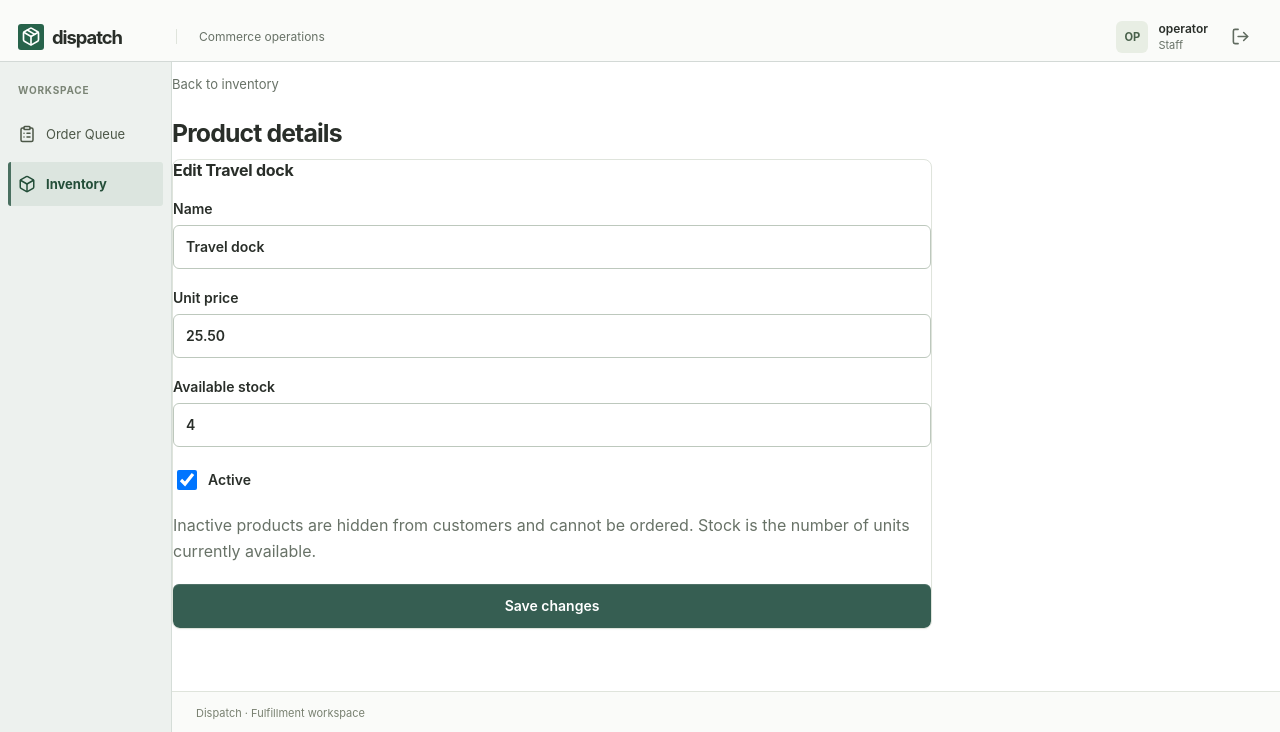
lets staff edit availability without overwriting unedited stock
Click the checkbox labelled "Active": coordinates (187, 480) x1=177 y1=470 x2=197 y2=490
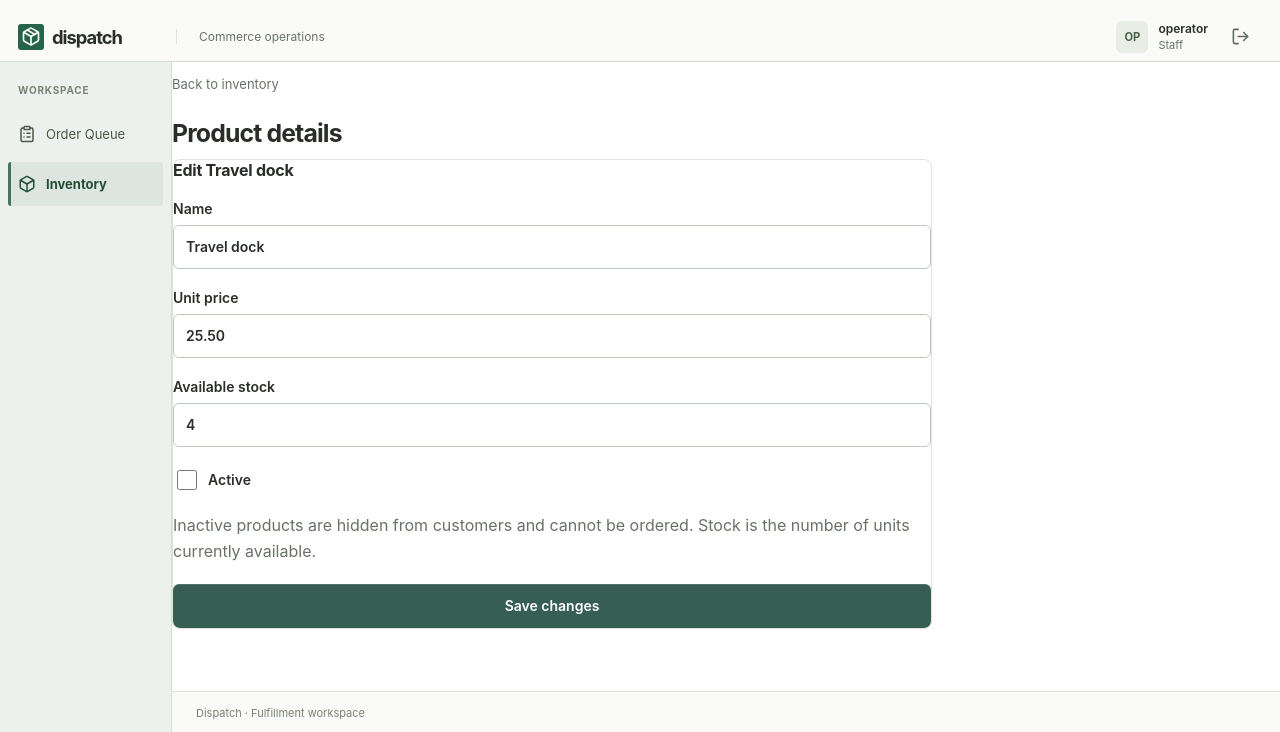
Click the button "Save changes": coordinates (552, 606) x1=173 y1=584 x2=931 y2=628
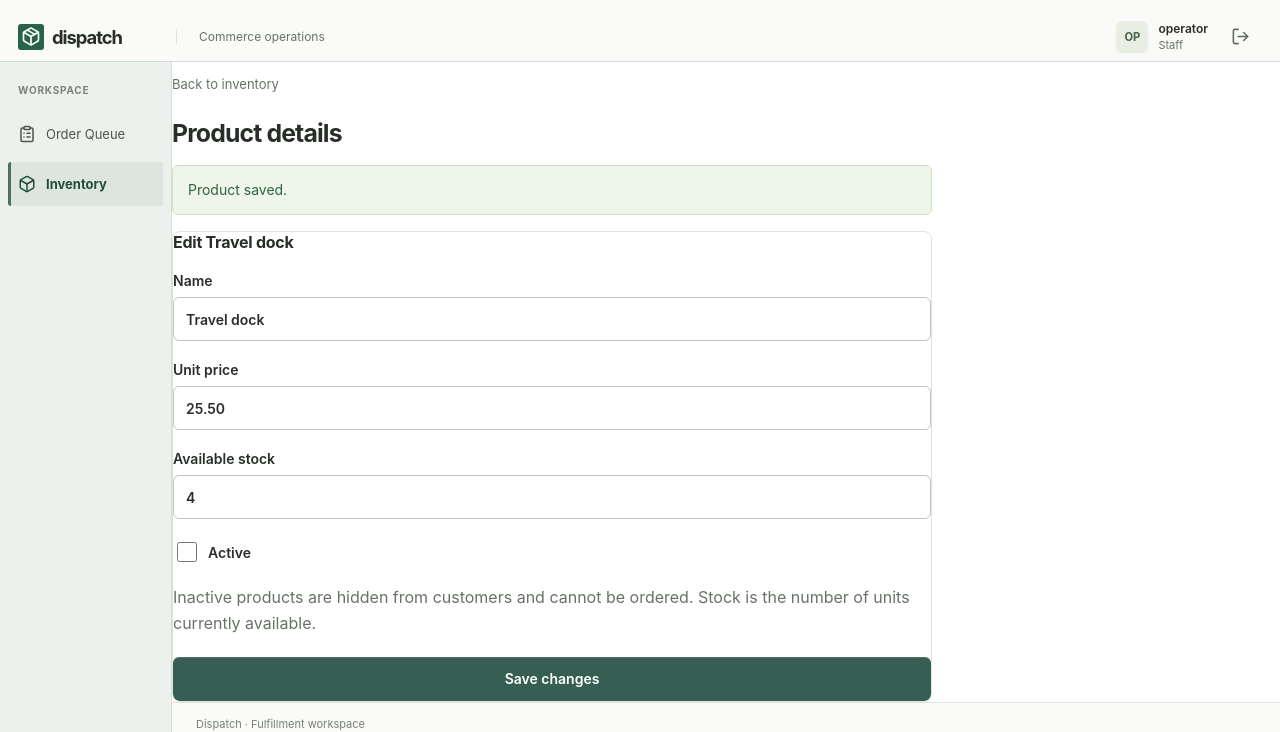
Expected: the text "Product saved." is shown, x1=172 y1=165 x2=932 y2=215
